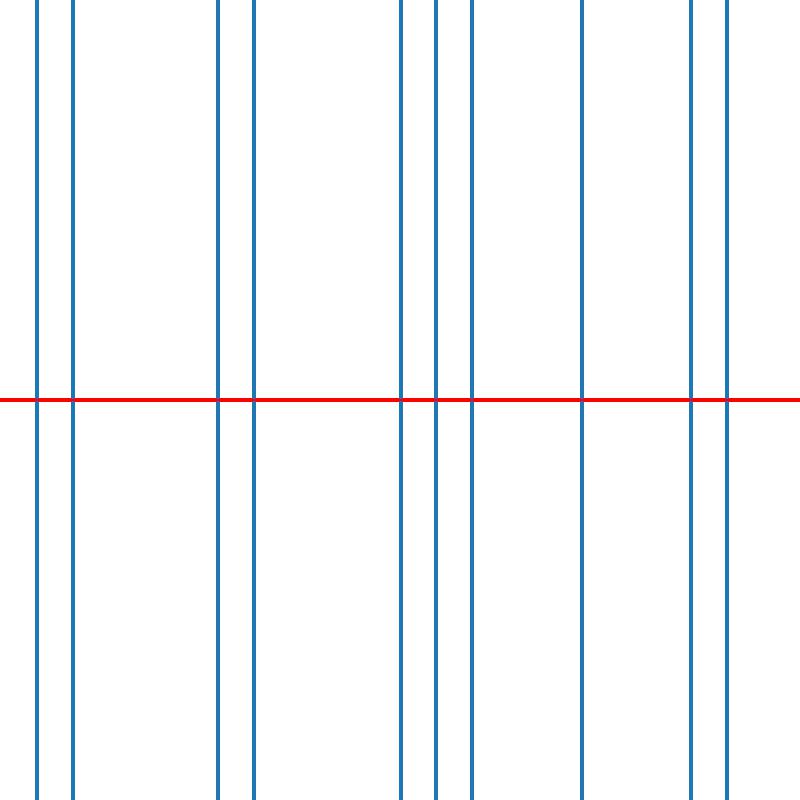root: (432, 396, 440, 404), (250, 396, 258, 404), (32, 396, 40, 404), (578, 396, 585, 404), (469, 396, 476, 404), (214, 396, 221, 404), (723, 396, 730, 404), (687, 396, 694, 404), (69, 396, 76, 404), (396, 396, 403, 404)
